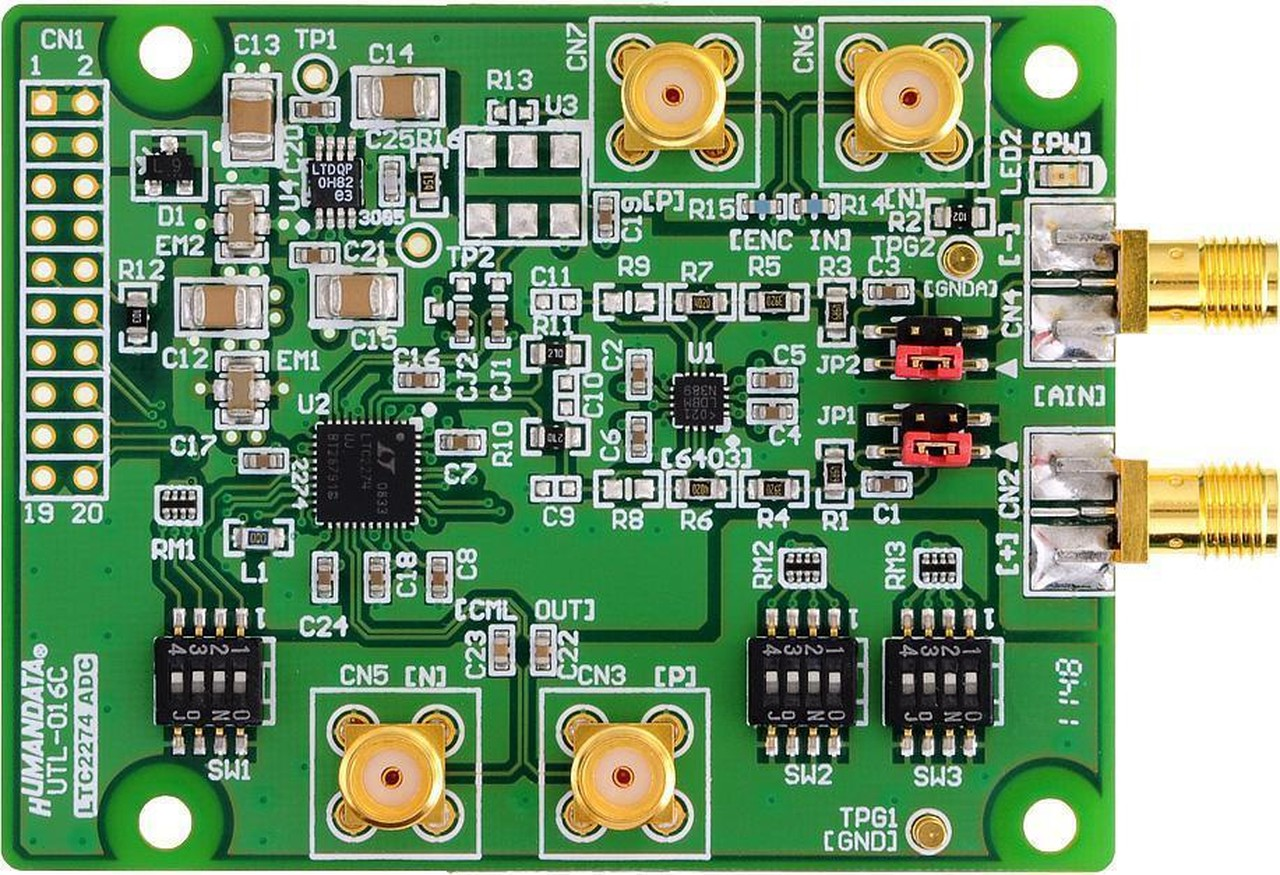Capacitor: (223, 71, 276, 165), (310, 267, 399, 322), (353, 70, 442, 124), (177, 279, 264, 332), (422, 268, 476, 350), (484, 269, 509, 346), (860, 469, 911, 498), (436, 428, 484, 455), (625, 349, 650, 399), (426, 551, 451, 600), (747, 366, 794, 392), (395, 366, 442, 391), (293, 241, 338, 267), (750, 398, 796, 423), (530, 625, 553, 674), (311, 553, 335, 599), (627, 412, 649, 461), (366, 551, 387, 601), (243, 449, 288, 472), (864, 279, 911, 301), (489, 625, 511, 671), (595, 191, 616, 239), (293, 99, 335, 120), (381, 159, 399, 204)
Connector: (1025, 197, 1279, 363), (1025, 428, 1279, 593), (27, 85, 107, 497), (313, 688, 479, 857), (592, 18, 755, 186), (819, 20, 983, 183), (542, 688, 704, 853), (861, 343, 994, 380), (857, 430, 992, 466), (856, 401, 1001, 430), (856, 315, 988, 346)
IC: (308, 416, 420, 529), (303, 134, 362, 232), (667, 370, 729, 430)
Inductor: (222, 515, 293, 560)
Resistor: (927, 198, 992, 233), (669, 283, 733, 318), (522, 335, 586, 370), (738, 472, 805, 504), (741, 283, 804, 317), (818, 438, 849, 507), (120, 283, 152, 349), (522, 419, 586, 452), (667, 472, 733, 504), (819, 279, 850, 345), (779, 548, 825, 586), (415, 149, 442, 212), (914, 550, 958, 586), (156, 486, 198, 522), (737, 191, 786, 215), (789, 193, 839, 216)
Switch: (738, 604, 867, 758), (145, 603, 275, 755), (881, 607, 1004, 758)
Transistor/Diode: (127, 130, 205, 202), (1032, 156, 1100, 190)
